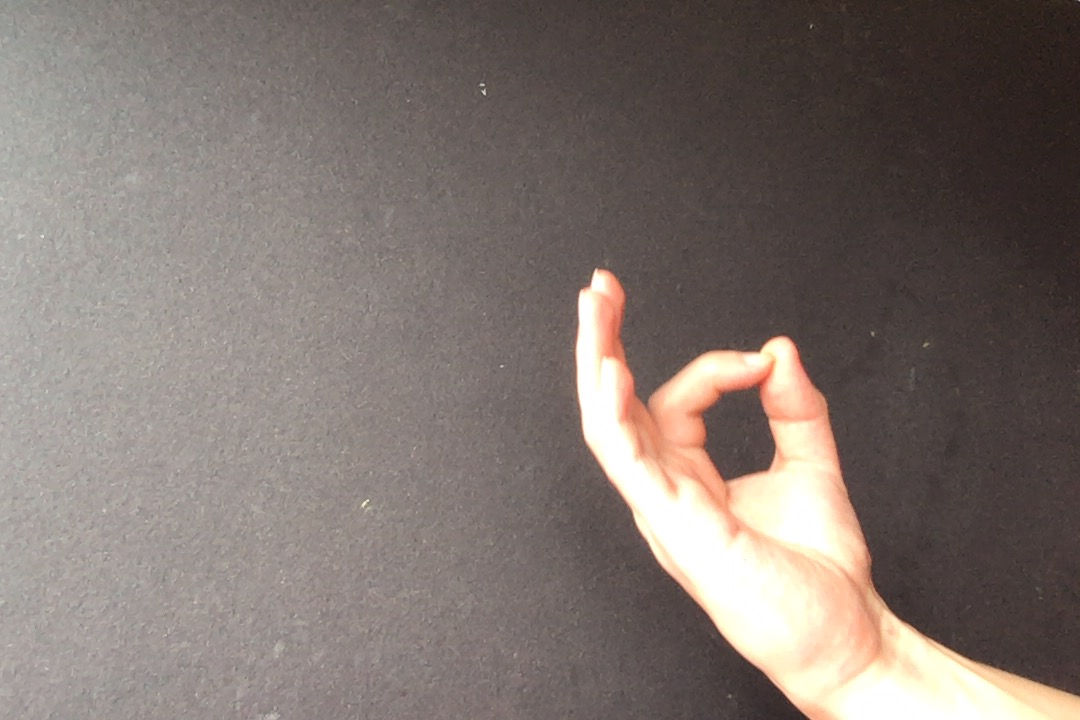oksign: (557, 260, 890, 685)
